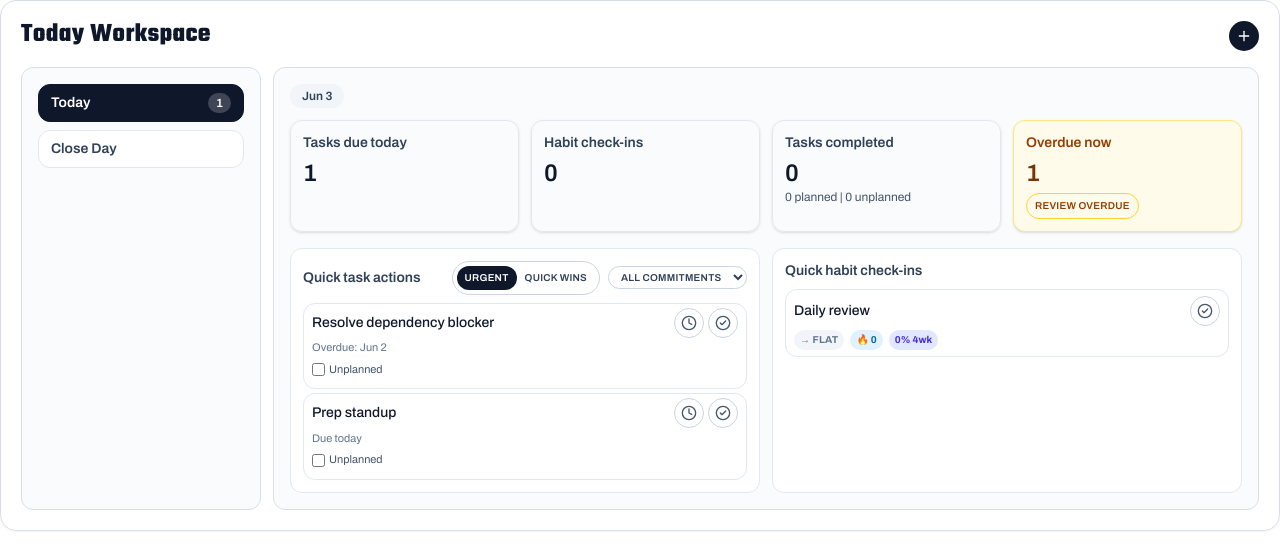
Test case: dashboard insights command center › surfaces overdue tasks with a quick review action
expect the text "Overdue now" is shown: met, box [1026, 135, 1111, 150]
expect the text "Overdue now" shows "1": met, box [1026, 160, 1040, 186]
Step 1. Click the button "Review overdue" → (1082, 206), box [1026, 193, 1139, 219]
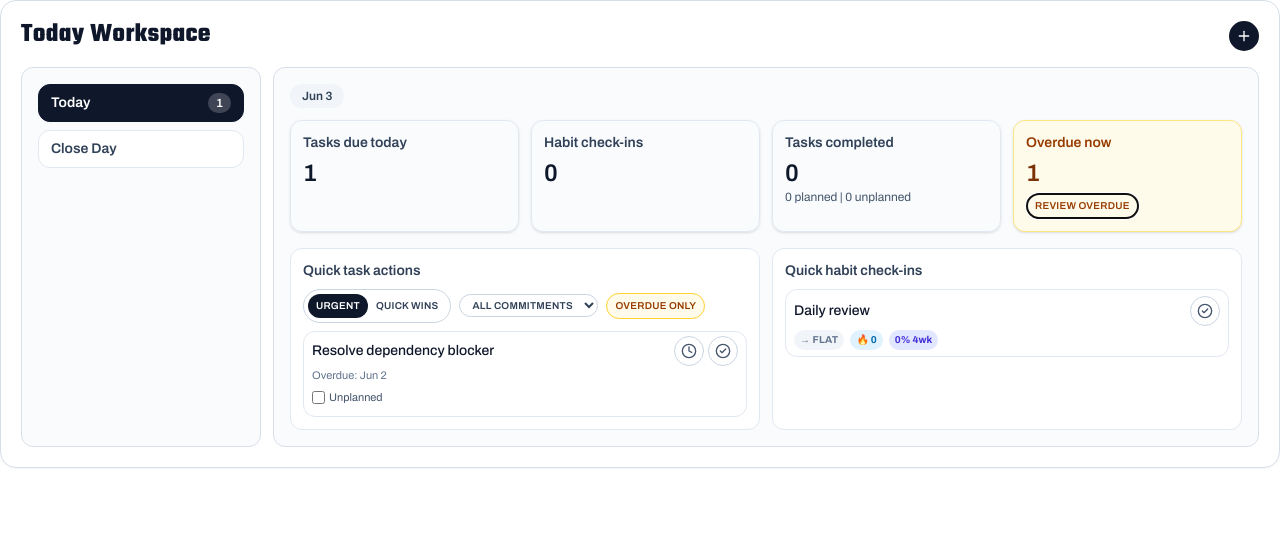
expect the button with test id "quick-task-title-task-overdue-1" is shown: met, box [312, 341, 666, 361]
expect the button "Overdue only" is shown: met, box [606, 293, 705, 319]
